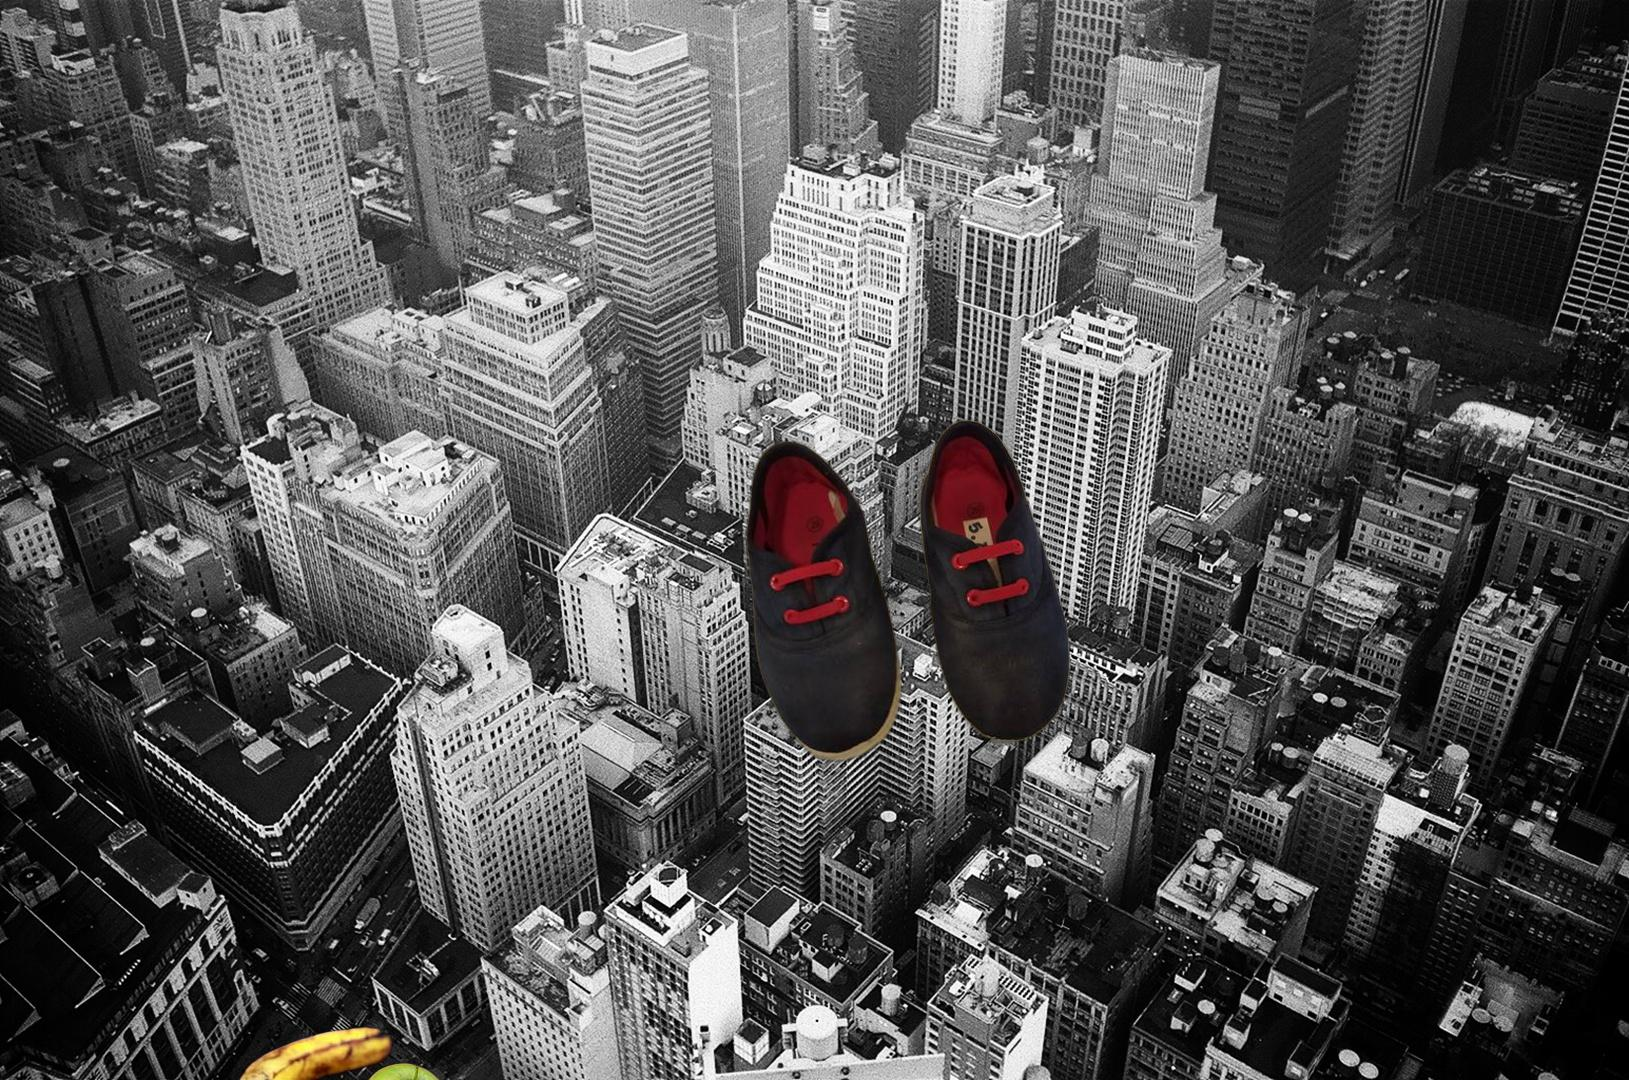biological: (229, 1025, 455, 1080)
shoes: (743, 331, 1122, 768)
